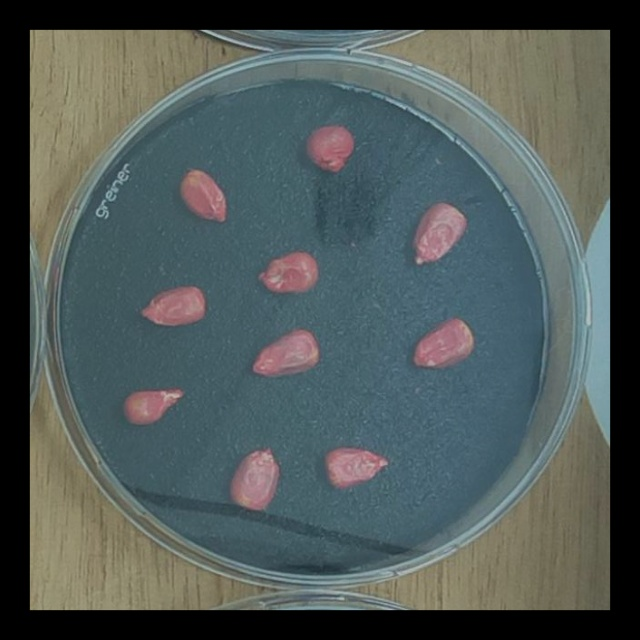Zea mays: (244, 321, 326, 386), (407, 196, 474, 272), (223, 441, 286, 517), (407, 313, 480, 374), (132, 278, 212, 333), (319, 440, 394, 495), (116, 379, 192, 432), (172, 162, 232, 229), (251, 245, 324, 300), (298, 119, 360, 181)
